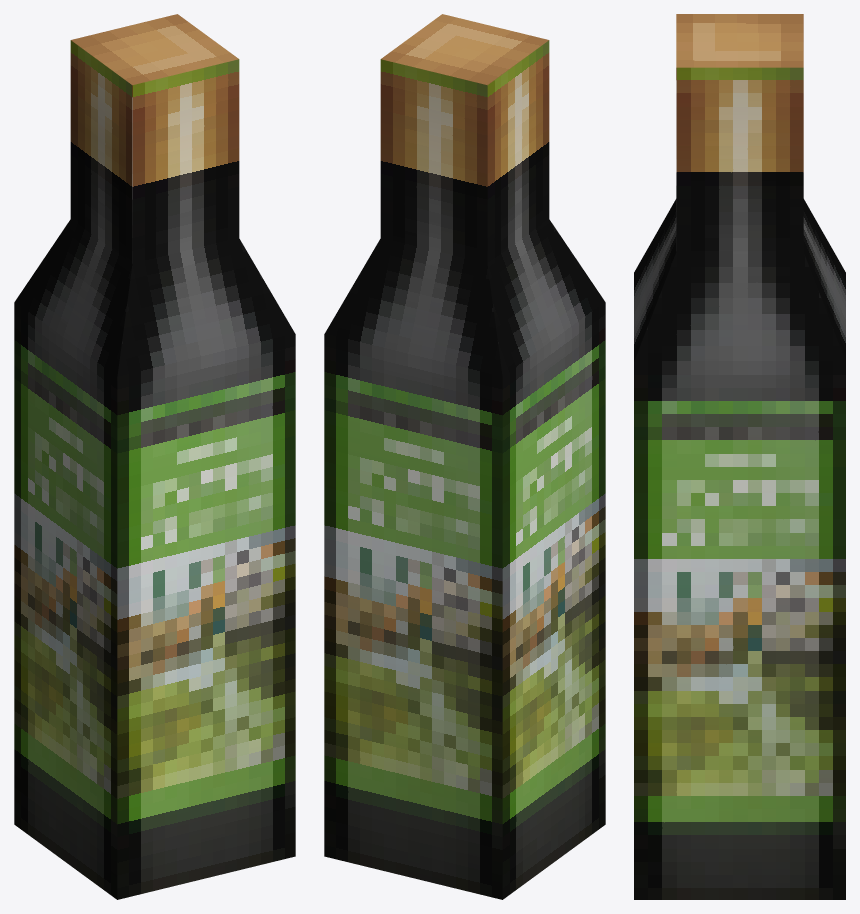
File: Bottle.glb
The picture shows the model from 3 angles, left to right: view 1: azimuth 30°, elevation 25°; view 2: azimuth 150°, elevation 25°; view 3: azimuth 270°, elevation 25°; orthographic projection. The views are drawn at different scales.
Visible parts, largest first — view 1: bottle; view 2: bottle; view 3: bottle.
Boxes of the visible parts, x1,y1,x2,y2 form: bottle: (14,14,295,899); bottle: (324,14,605,899); bottle: (634,14,845,899).
Bounding box in the file's own units: 0.04 × 0.1696 × 0.04.
Materials: 1 (1 with a texture image).
